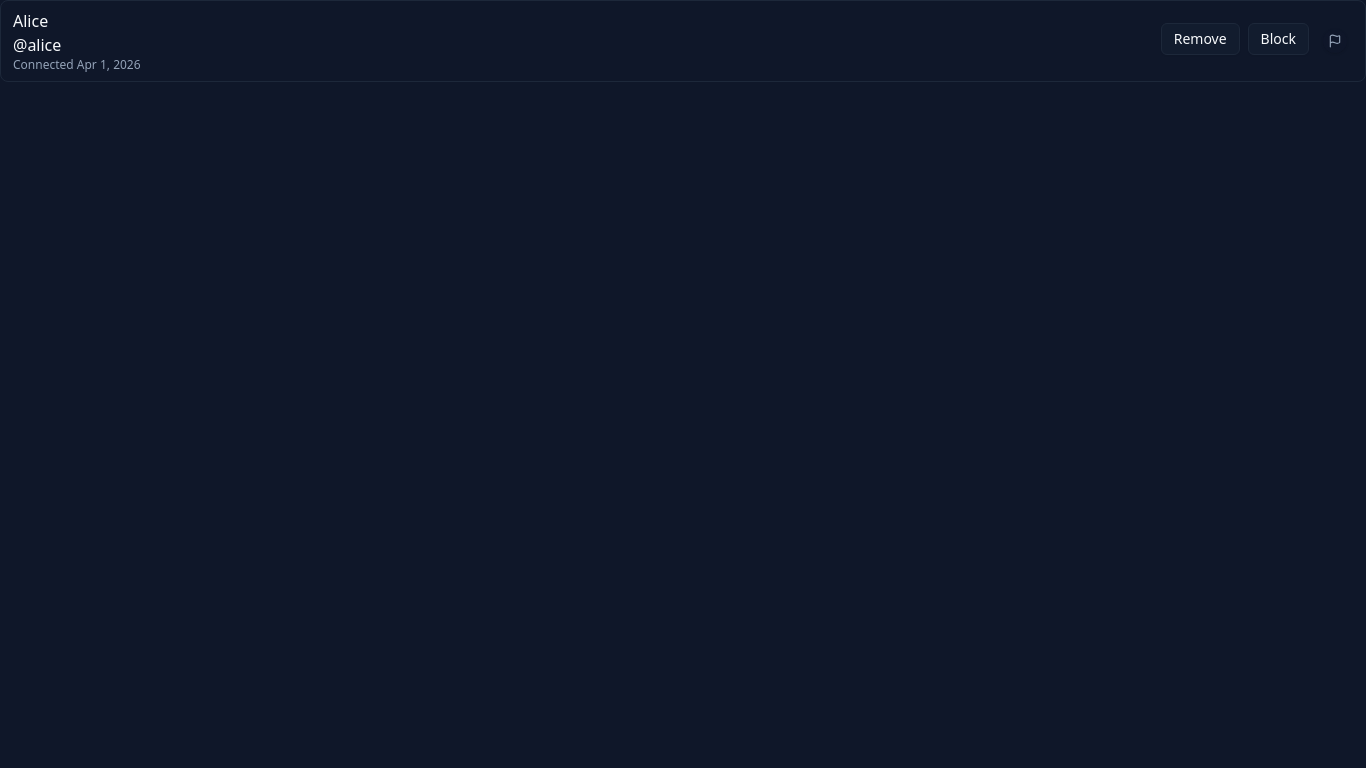
Test case: ConnectionsList › names both the display name and the handle in the destructive confirmations
The width and height of the screenshot is (1366, 768).
Check: the text "Alice" is shown, box [13,10,48,32]
Click the button "Remove" at {"x": 1200, "y": 39}, box [1161,23,1240,55]
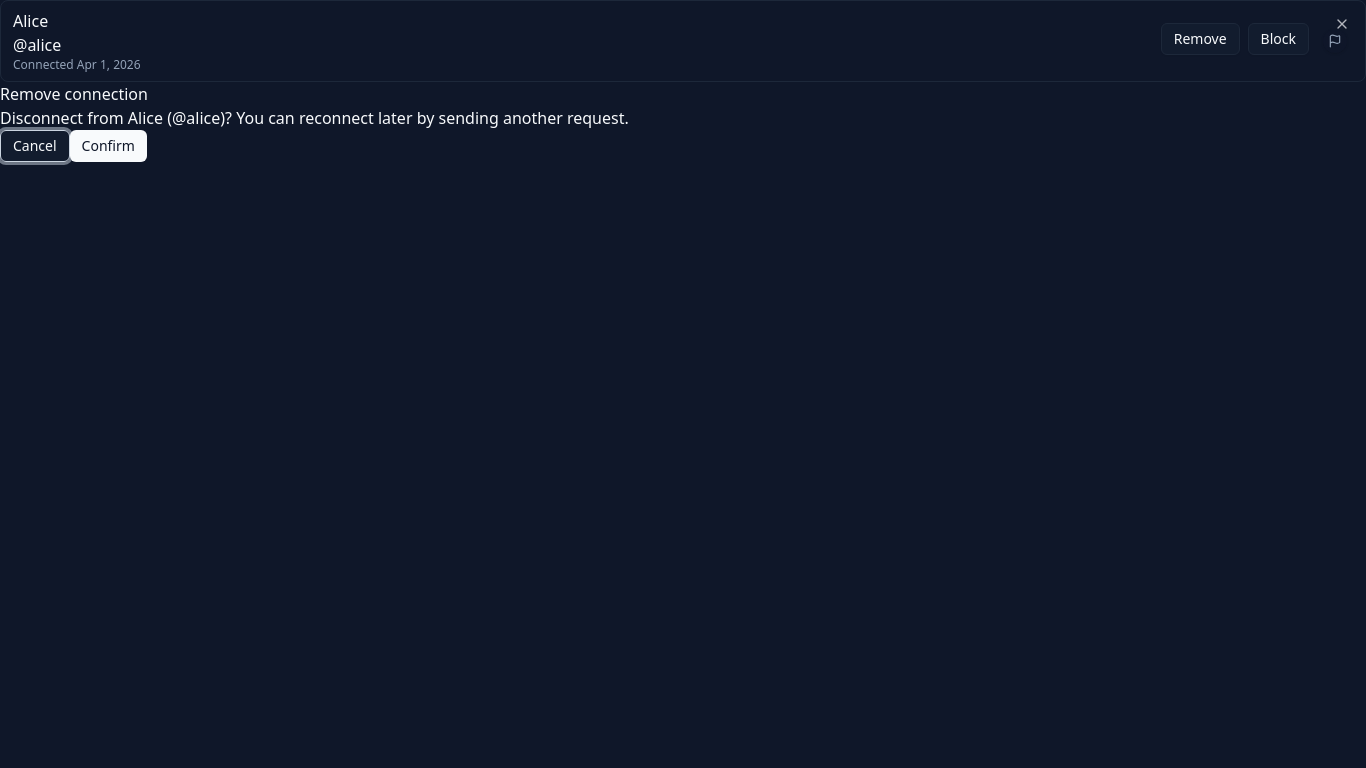
Check: the text "Disconnect from Alice (@alice)?" is shown, box [0,107,629,129]
Click the button "Cancel" at {"x": 35, "y": 146}, box [0,130,70,162]
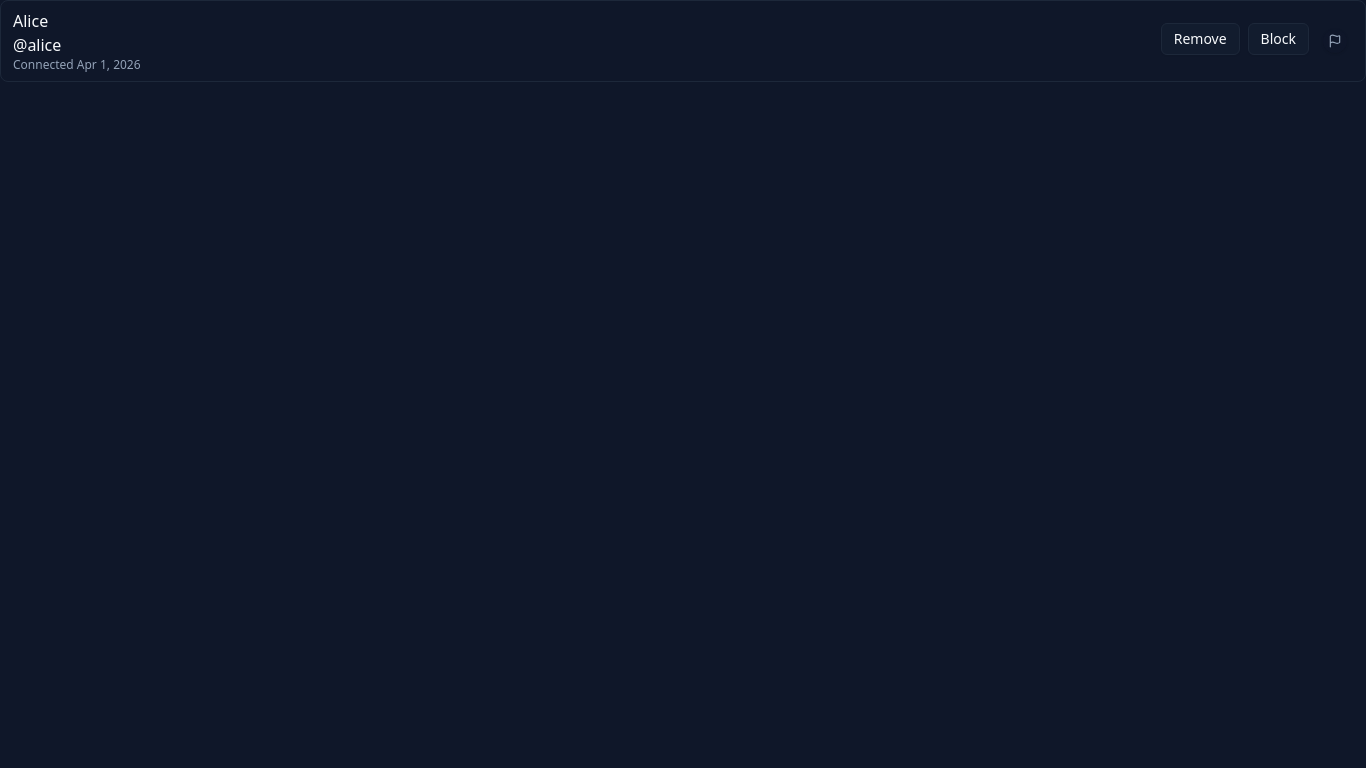
Click the button "Block" at {"x": 1278, "y": 39}, box [1248,23,1309,55]
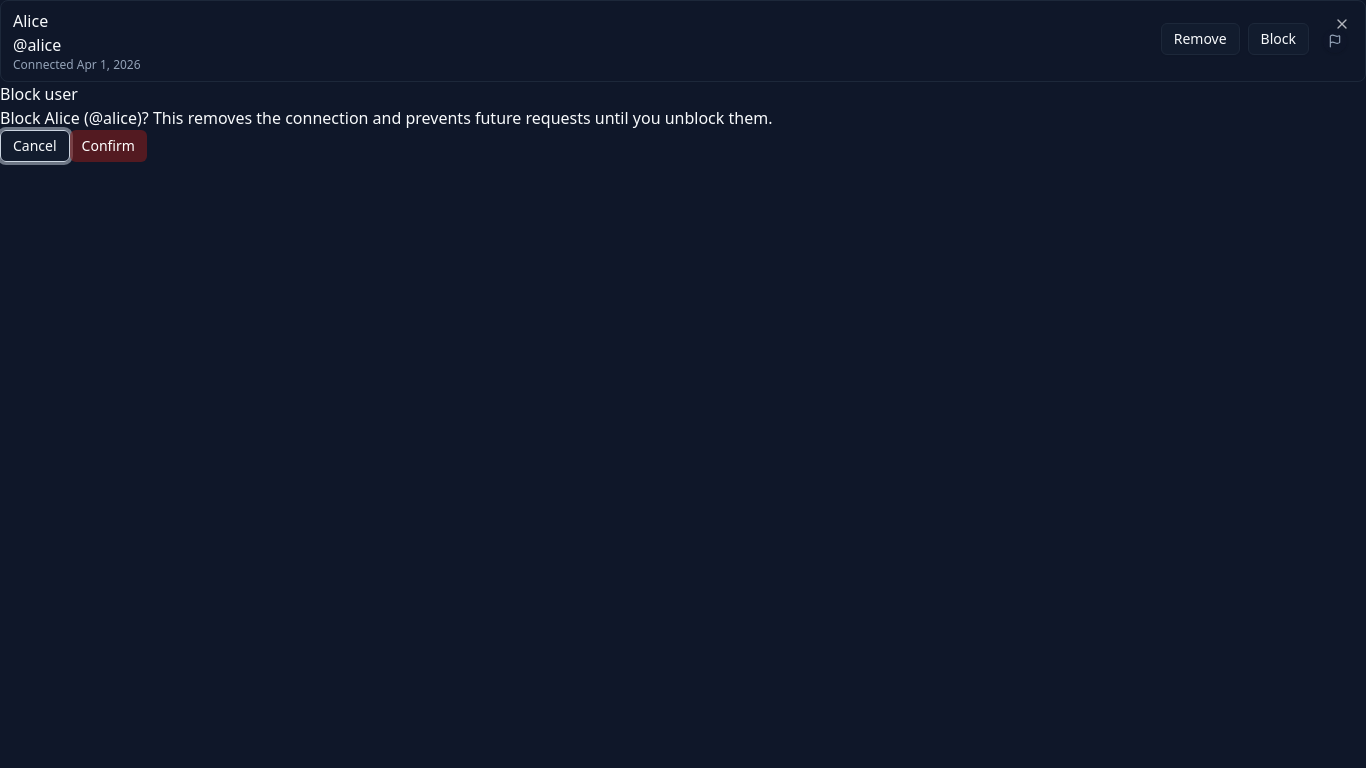
Check: the text "Block Alice (@alice)?" is shown, box [0,107,772,129]
